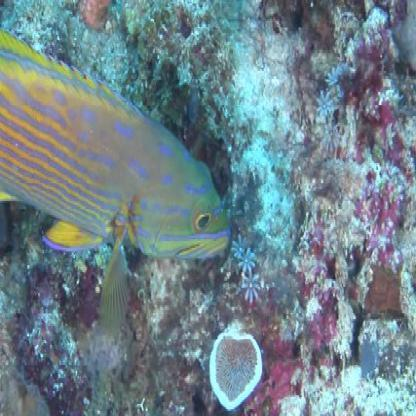Bio: (0, 24, 231, 333)
